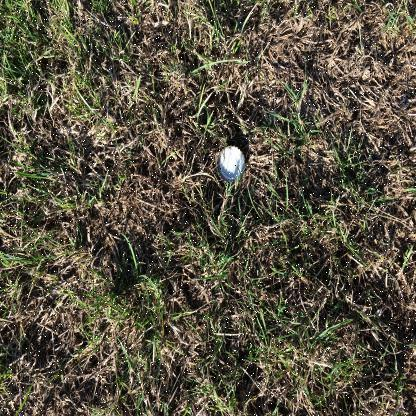metal: (216, 146, 246, 184)
